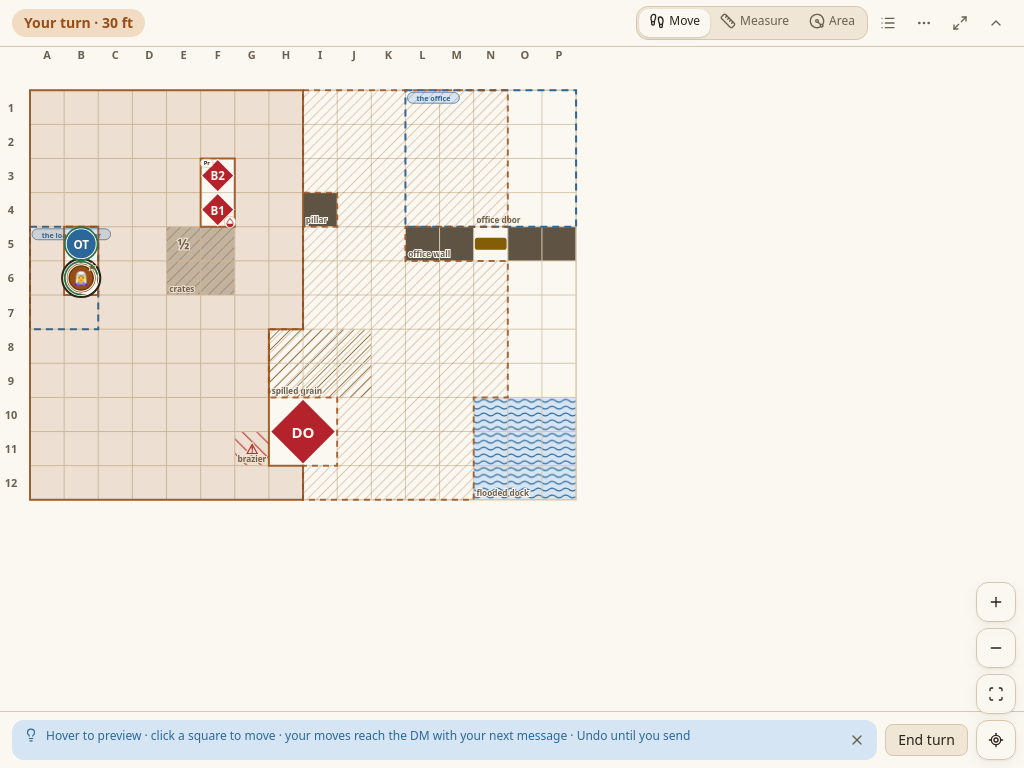
Test case: area templates (D50, D64) › warns when you or an ally are inside, and when the centre is out of the spell’s range
Click the radio button labelled "Area": (832, 23) x1=799 y1=9 x2=865 y2=37
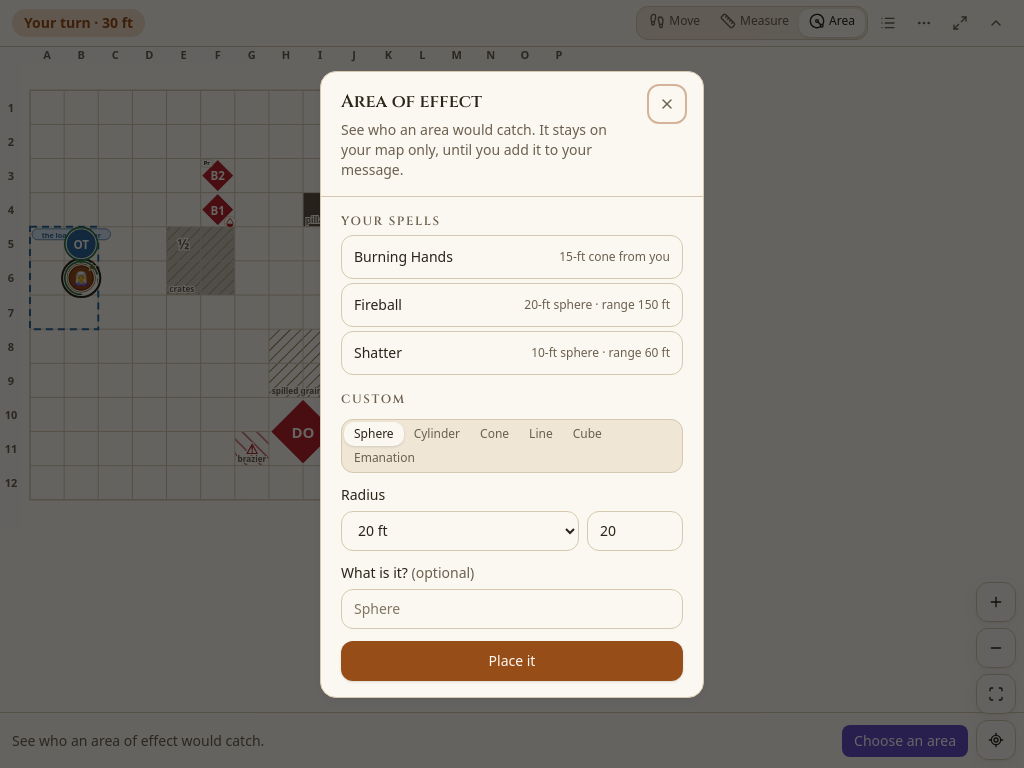
Click the button "Shatter 10-ft sphere · range 60 ft": (378, 352) x1=341 y1=330 x2=683 y2=374
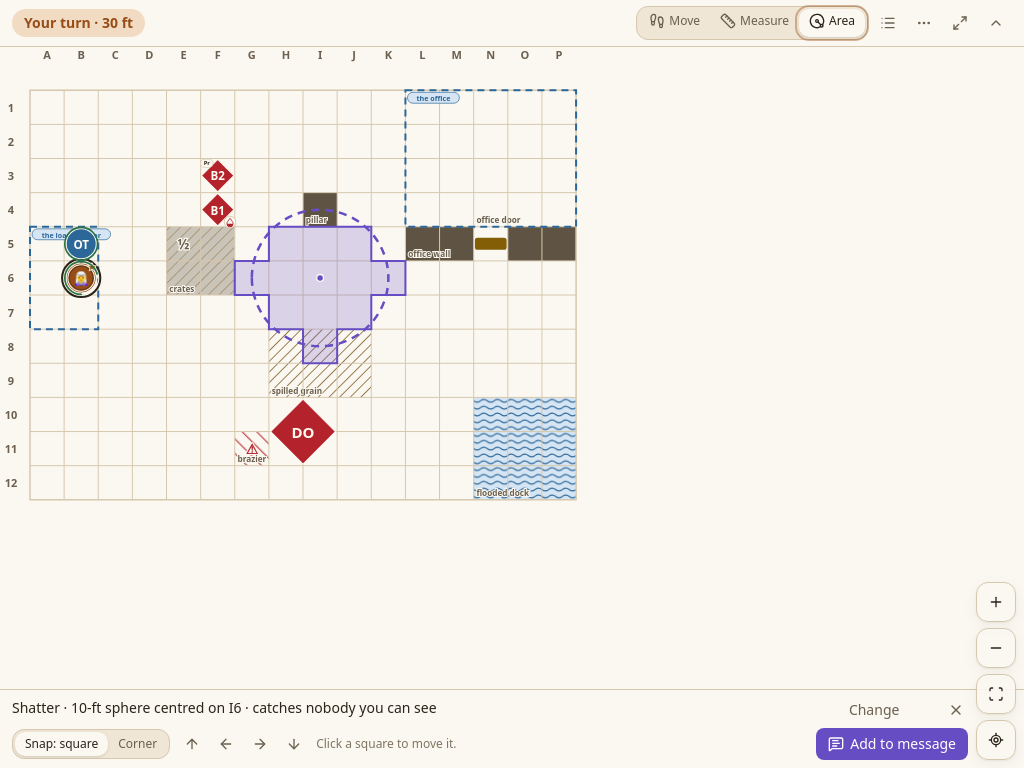
Press Enter in the element named "Battle map: Dockside warehouse, 16 by 12 squares"
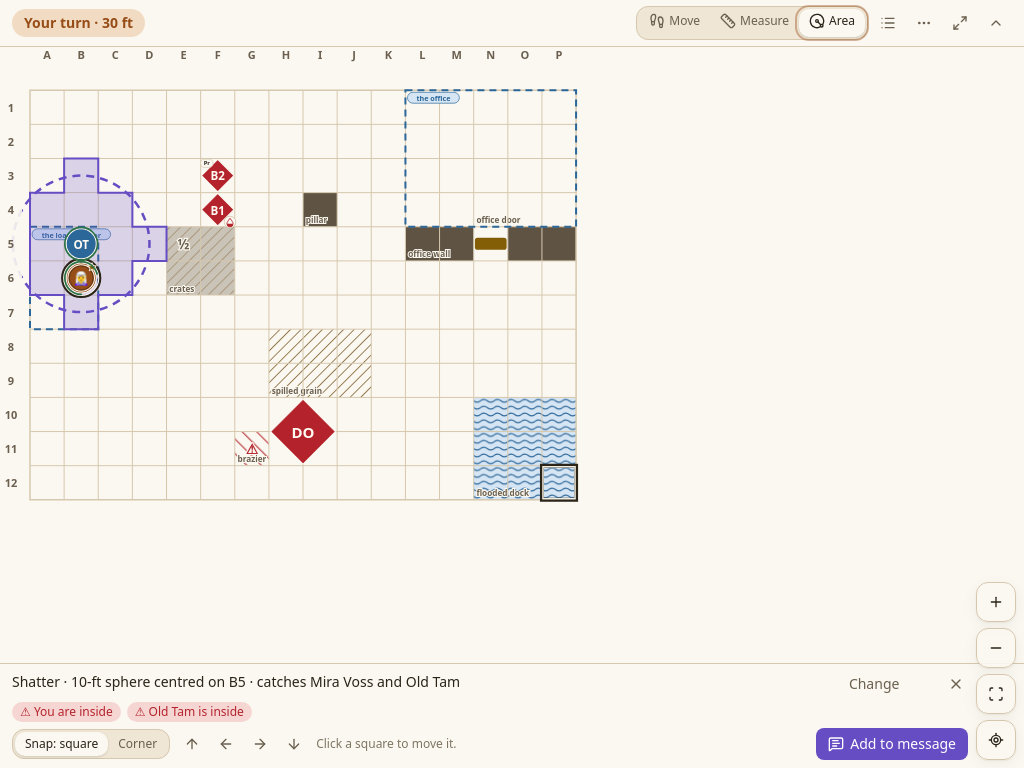
Now the list item "⚠ You are inside" is shown, box x1=12 y1=702 x2=121 y2=722
Now the list item "⚠ Old Tam is inside" is shown, box x1=127 y1=702 x2=252 y2=722
Press Enter in the element named "Battle map: Dockside warehouse, 16 by 12 squares"
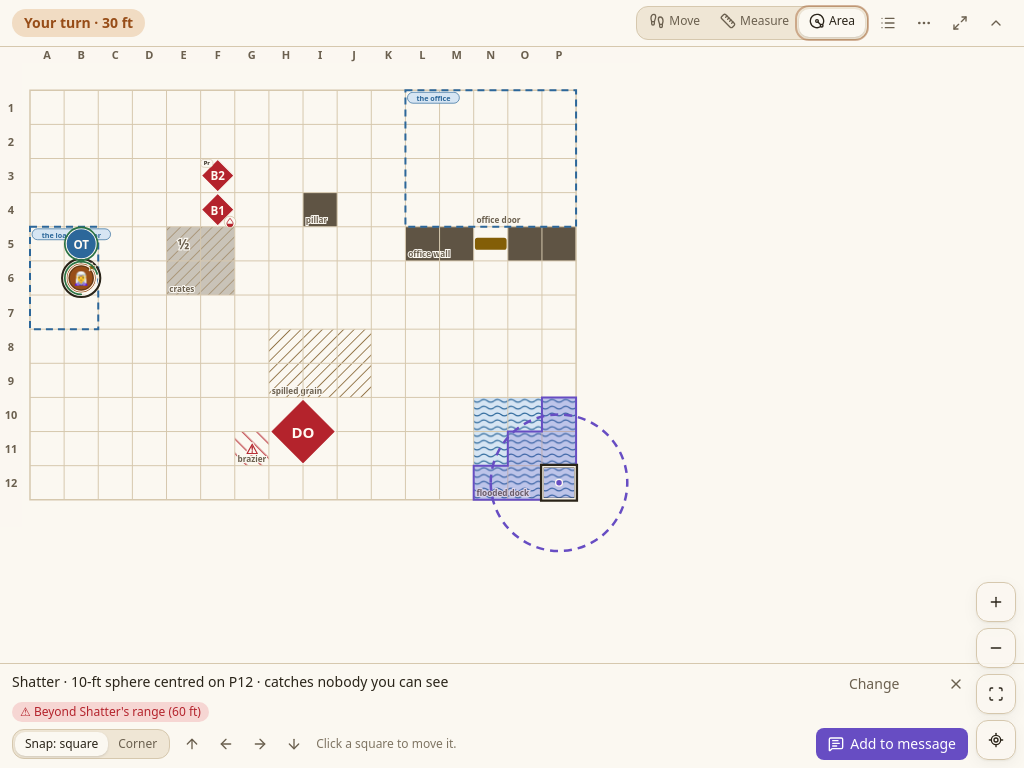
Now the list item "⚠ Beyond Shatter's range (60 ft)" is shown, box x1=12 y1=702 x2=209 y2=722
Now the list item "⚠ You are inside" is gone
